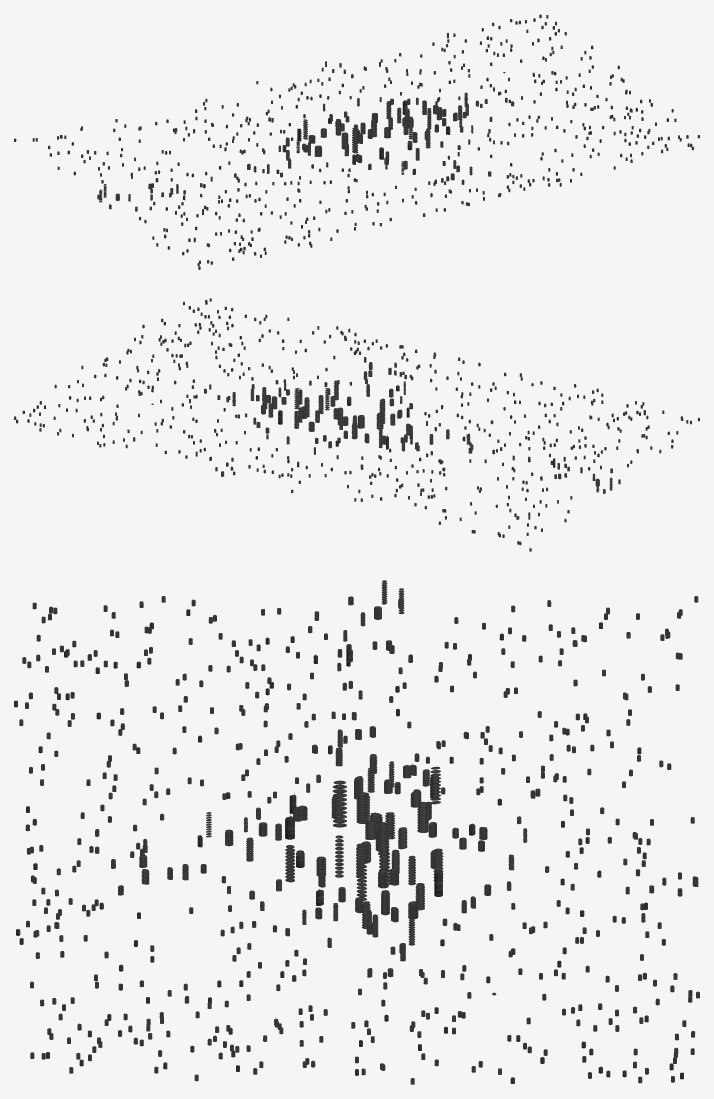
File: city-layer-2.glb
3 views of the same model, one above another, from view 1: azimuth 30°, elevation 25°; view 2: azimuth 150°, elevation 25°; view 3: azimuth 270°, elevation 25° (orthographic). The views are drawn at different scales.
Visible parts, largest first — view 1: Scatter city_SC low-poly building facade_0.001, Scatter city, Scatter city_SC low-poly building facade_0.002, Scatter city_SC low-poly building facade_0.003, Scatter city_SC low-poly building facade_0.005, Scatter city_SC low-poly building facade_0.004; view 2: Scatter city_SC low-poly building facade_0.001, Scatter city, Scatter city_SC low-poly building facade_0.002, Scatter city_SC low-poly building facade_0.003, Scatter city_SC low-poly building facade_0.005, Scatter city_SC low-poly building facade_0.004; view 3: Scatter city_SC low-poly building facade_0.001, Scatter city, Scatter city_SC low-poly building facade_0.002, Scatter city_SC low-poly building facade_0.003, Scatter city_SC low-poly building facade_0.005, Scatter city_SC low-poly building facade_0.004.
Boxes of the visible parts, x1,y1,x2,y2 form: Scatter city_SC low-poly building facade_0.001: (14,15,669,263); Scatter city: (35,20,699,266); Scatter city_SC low-poly building facade_0.002: (32,15,692,264); Scatter city_SC low-poly building facade_0.003: (48,14,679,269); Scatter city_SC low-poly building facade_0.005: (165,26,688,241); Scatter city_SC low-poly building facade_0.004: (60,18,689,251); Scatter city_SC low-poly building facade_0.001: (14,308,683,551); Scatter city: (39,298,691,544); Scatter city_SC low-poly building facade_0.002: (16,299,688,545); Scatter city_SC low-poly building facade_0.003: (16,309,699,535); Scatter city_SC low-poly building facade_0.005: (33,306,647,467); Scatter city_SC low-poly building facade_0.004: (27,301,640,537); Scatter city_SC low-poly building facade_0.001: (25,580,699,1083); Scatter city: (22,596,695,1081); Scatter city_SC low-poly building facade_0.002: (14,599,692,1084); Scatter city_SC low-poly building facade_0.003: (19,588,698,1079); Scatter city_SC low-poly building facade_0.005: (16,622,626,1077); Scatter city_SC low-poly building facade_0.004: (14,632,673,1083).
Bounding box in the file's own units: 50.12 × 2.1 × 30.05.
1 material, 1 textured.
